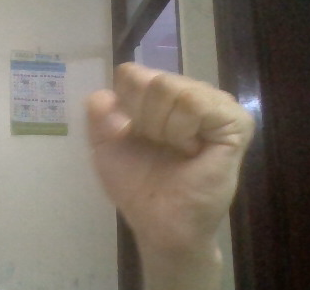click: (73, 52, 257, 267)
